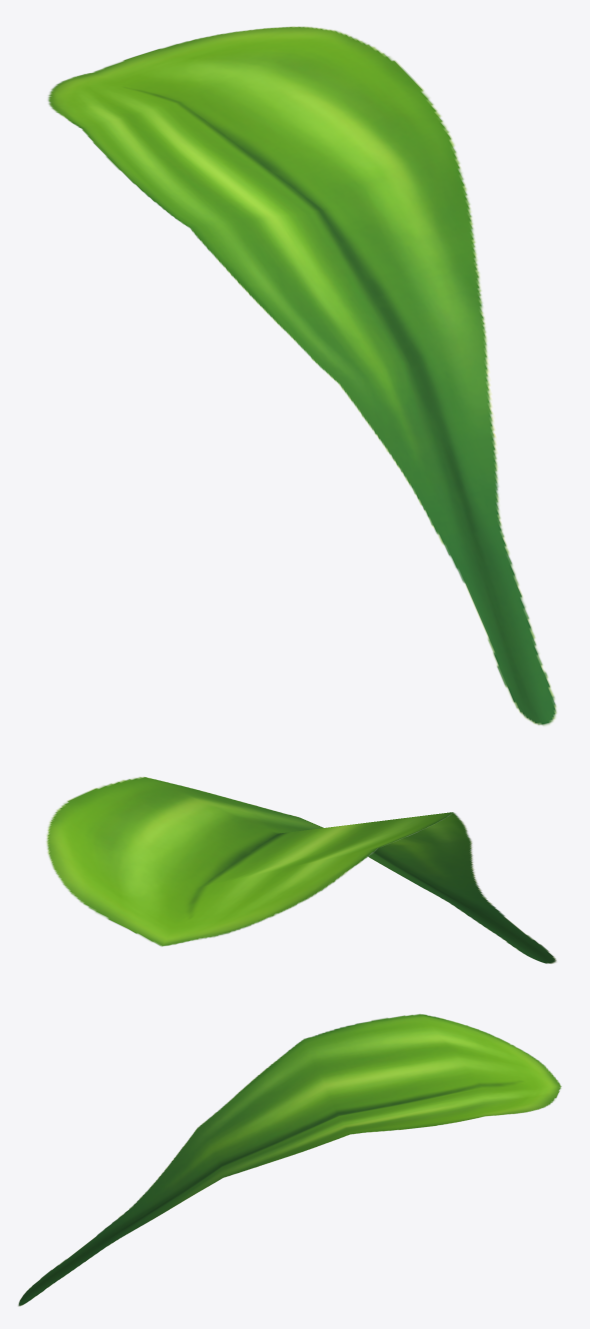
Rendered from PLeaf4.glb.
3 renders of one model, top to bottom at view 1: azimuth 30°, elevation 25°; view 2: azimuth 150°, elevation 25°; view 3: azimuth 270°, elevation 25°, orthographic. The views are drawn at different scales.
Visible parts, largest first — view 1: PLeaf4; view 2: PLeaf4; view 3: PLeaf4.
Part boxes in pixels (box(x1,y1,x2,y2)): PLeaf4: box(47, 26, 557, 726); PLeaf4: box(45, 776, 556, 963); PLeaf4: box(18, 1013, 561, 1306).
Size of the model in its own units: 0.8433 by 0.8774 by 1.74.
Materials: 1 (1 with a texture image).
